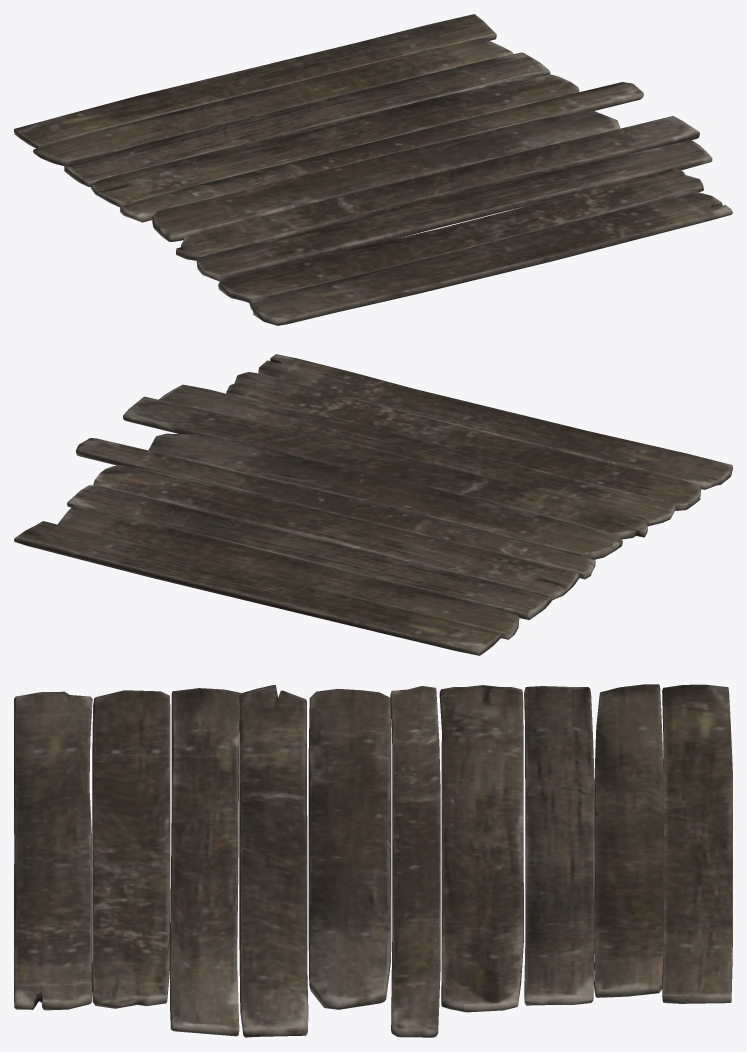
The model's file is pier.glb.
The picture shows the model from 3 angles, top to bottom: view 1: azimuth 30°, elevation 25°; view 2: azimuth 150°, elevation 25°; view 3: azimuth 270°, elevation 25°; orthographic projection. The views are drawn at different scales.
Parts seen in each view (by area): view 1: modular_wooden_pier_planks; view 2: modular_wooden_pier_planks; view 3: modular_wooden_pier_planks.
Part boxes in pixels (x1,y1,x2,y2): modular_wooden_pier_planks: [14, 14, 732, 325]; modular_wooden_pier_planks: [14, 354, 732, 655]; modular_wooden_pier_planks: [14, 684, 732, 1037].
Size of the model in its own units: 2.52 by 0.0795 by 2.2.
Materials: 1 (1 with a texture image).
